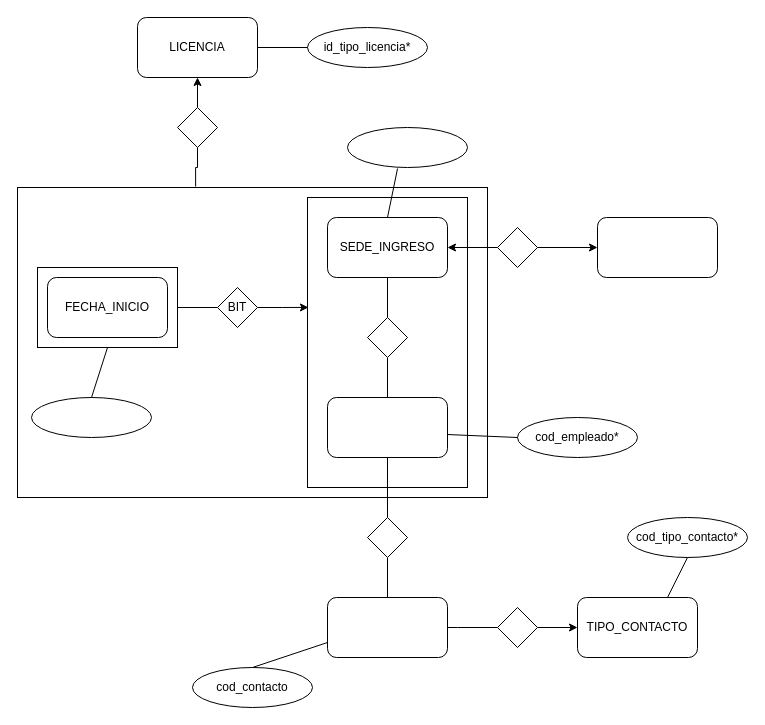
The diagram is 765 pixels wide and 725 high, and some of its shapes have lost their labels. The shapes that lost their labels are listed below. From the top down, each one's box as (x1, y1, x2, y2) in pixels, then its label:
(346, 126, 468, 168): cod_sede_ingreso*
(596, 216, 718, 278): SECTOR_INGRESO
(30, 396, 152, 438): fecha_inicio*
(326, 396, 448, 458): EMPLEADO
(326, 596, 448, 658): CONTACTO
